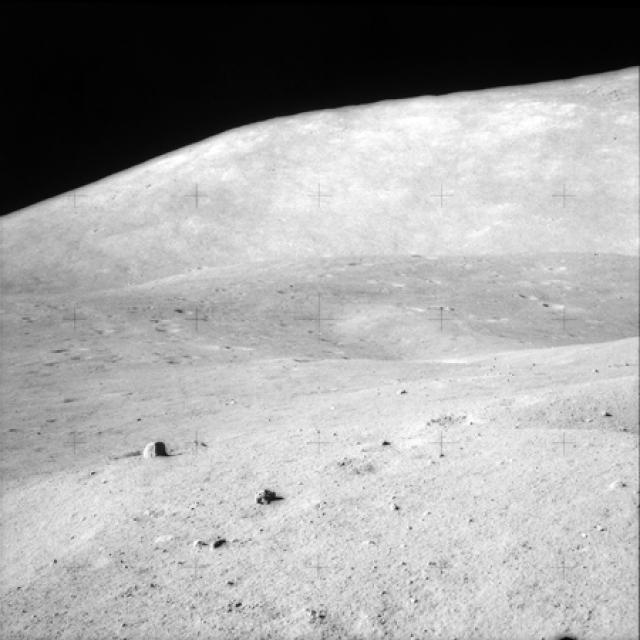crater: (504, 384, 638, 431)
rock: (128, 437, 172, 466), (252, 480, 278, 510)
